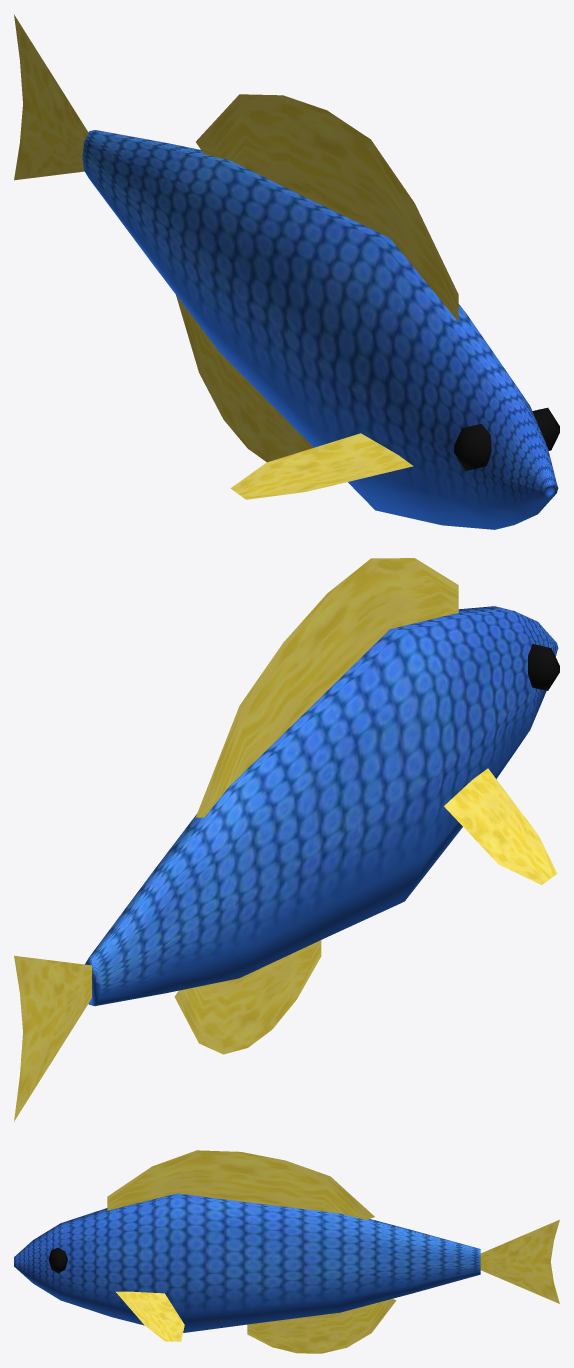
The model's file is reef_tang.glb.
3 renders of one model, top to bottom at view 1: azimuth 30°, elevation 25°; view 2: azimuth 150°, elevation 25°; view 3: azimuth 270°, elevation 25°, orthographic. The views are drawn at different scales.
Size of the model in its own units: 0.0941 by 0.1153 by 0.2808.
Materials: 1 (1 with a texture image).
